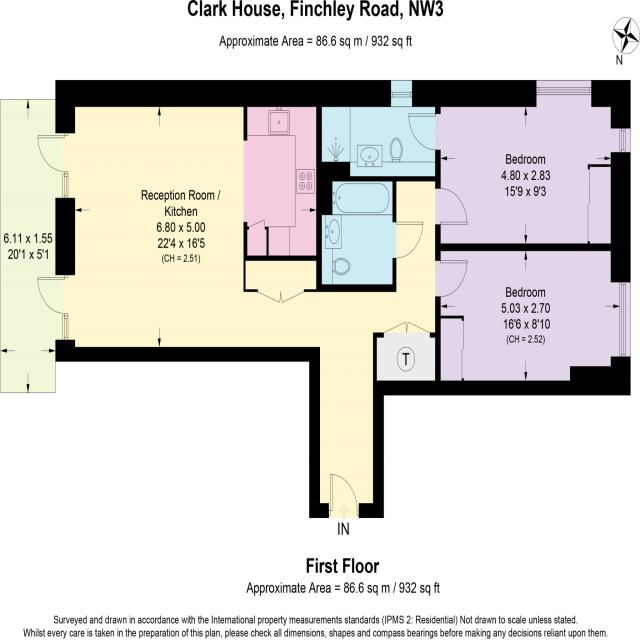DOOR: (327, 471, 362, 519), (406, 111, 441, 156), (435, 258, 470, 300), (435, 186, 469, 228), (392, 219, 425, 261), (35, 274, 68, 314), (36, 134, 69, 173)
ROOM: (32, 80, 472, 519), (402, 80, 631, 282), (435, 244, 631, 397)
WINDOW: (536, 80, 592, 108), (611, 281, 631, 359), (391, 80, 413, 107), (611, 127, 631, 152), (61, 314, 69, 340), (62, 173, 70, 198), (99, 205, 99, 206)
